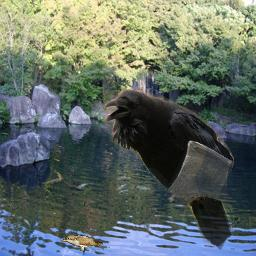Crow: (103, 90, 234, 251)
Cuckoo: (61, 235, 104, 255)
